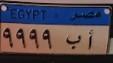9: (1, 25, 13, 49), (41, 27, 53, 50), (28, 27, 39, 50), (15, 27, 26, 50)
alif: (86, 28, 95, 53)
baa: (65, 33, 82, 52)
